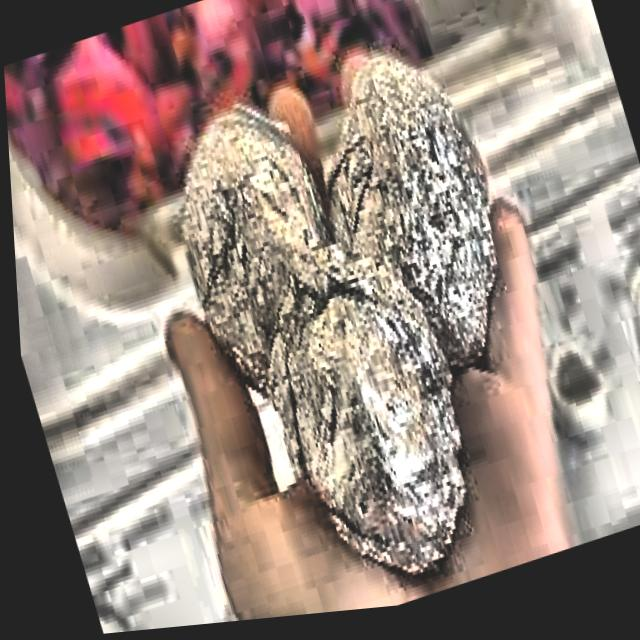Foil: (224, 204, 500, 620), (277, 21, 546, 422), (126, 56, 369, 420)
